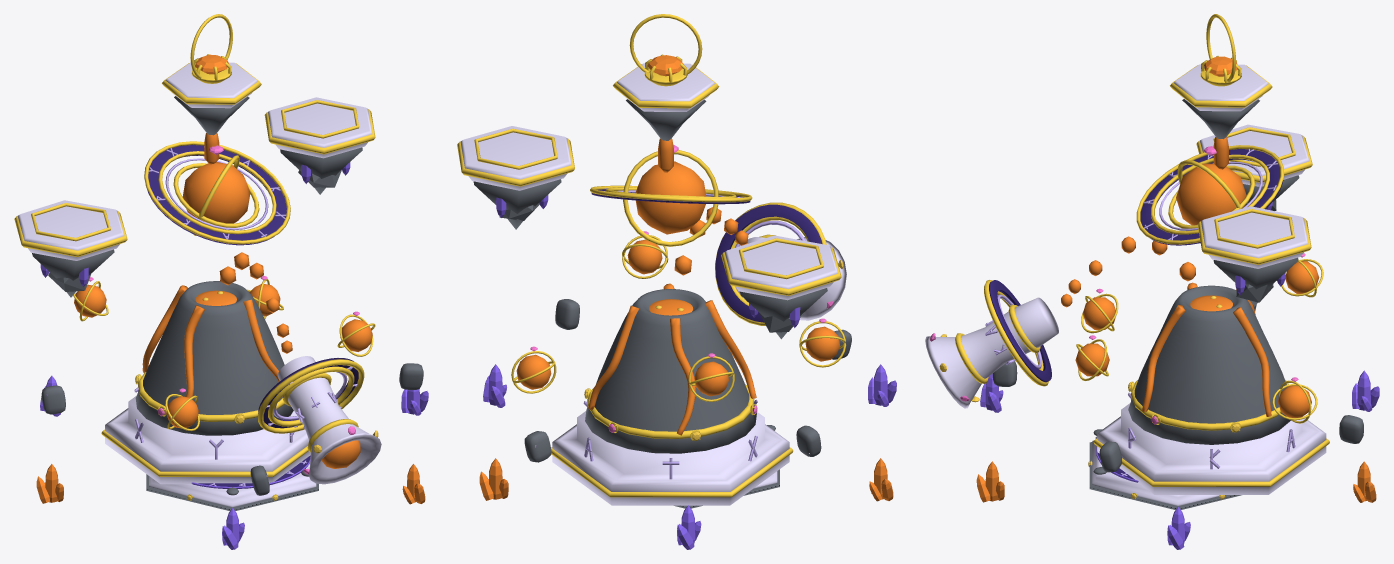
Rendered from LavaPump_T4.fbx.
3 views of the same model, side by side, from view 1: azimuth 30°, elevation 25°; view 2: azimuth 150°, elevation 25°; view 3: azimuth 270°, elevation 25° (orthographic). The views are drawn at different scales.
Visible parts, largest first — view 1: LavaPumpT4Volcano, LavaPumpT4Altar, LavaPumpT4IslandB, LavaPumpT4IslandA, LavaPumpT4Horn, LavaPumpT4OrbRing, LavaPumpT4Crown, LavaPumpT4GreatOrbGlow, LavaPumpT4Dais, LavaPumpT4OrbsGlow, LavaPumpT4HornRing, LavaPumpT4VolcanoLavaGlow (+9 smaller); view 2: LavaPumpT4Volcano, LavaPumpT4Altar, LavaPumpT4IslandA, LavaPumpT4IslandB, LavaPumpT4Crown, LavaPumpT4DaisCrystalsGlow, LavaPumpT4OrbsGlow, LavaPumpT4GreatOrbGlow, LavaPumpT4VolcanoLavaGlow, LavaPumpT4HornRing, LavaPumpT4RuneStones, LavaPumpT4Orbs (+5 smaller); view 3: LavaPumpT4Volcano, LavaPumpT4Altar, LavaPumpT4IslandB, LavaPumpT4Horn, LavaPumpT4Crown, LavaPumpT4OrbRing, LavaPumpT4DaisCrystalsGlow, LavaPumpT4IslandA, LavaPumpT4OrbsGlow, LavaPumpT4GreatOrbGlow, LavaPumpT4VolcanoLavaGlow, LavaPumpT4Dais (+7 smaller).
Boxes of the visible parts, x1,y1,x2,y2 form: LavaPumpT4Volcano: [135, 281, 293, 435]; LavaPumpT4Altar: [101, 396, 310, 484]; LavaPumpT4IslandB: [264, 97, 375, 194]; LavaPumpT4IslandA: [14, 200, 127, 297]; LavaPumpT4Horn: [277, 356, 381, 484]; LavaPumpT4OrbRing: [144, 141, 290, 245]; LavaPumpT4Crown: [162, 14, 261, 135]; LavaPumpT4GreatOrbGlow: [182, 145, 250, 223]; LavaPumpT4Dais: [146, 463, 318, 510]; LavaPumpT4OrbsGlow: [74, 276, 372, 428]; LavaPumpT4HornRing: [258, 358, 364, 433]; LavaPumpT4VolcanoLavaGlow: [142, 279, 283, 397]; LavaPumpT4Volcano: [585, 289, 756, 453]; LavaPumpT4Altar: [551, 411, 793, 505]; LavaPumpT4IslandA: [721, 235, 841, 339]; LavaPumpT4IslandB: [457, 126, 574, 229]; LavaPumpT4Crown: [613, 14, 719, 140]; LavaPumpT4DaisCrystalsGlow: [479, 364, 896, 549]; LavaPumpT4OrbsGlow: [516, 231, 839, 396]; LavaPumpT4GreatOrbGlow: [635, 145, 706, 234]; LavaPumpT4VolcanoLavaGlow: [588, 283, 756, 435]; LavaPumpT4HornRing: [715, 202, 826, 325]; LavaPumpT4RuneStones: [524, 299, 851, 462]; LavaPumpT4Orbs: [511, 234, 846, 401]; LavaPumpT4Volcano: [1128, 285, 1290, 444]; LavaPumpT4Altar: [1093, 403, 1329, 494]; LavaPumpT4IslandB: [1197, 206, 1311, 306]; LavaPumpT4Horn: [925, 297, 1058, 408]; LavaPumpT4Crown: [1170, 14, 1272, 139]; LavaPumpT4OrbRing: [1136, 145, 1283, 245]; LavaPumpT4DaisCrystalsGlow: [976, 370, 1379, 549]; LavaPumpT4IslandA: [1196, 124, 1312, 210]; LavaPumpT4OrbsGlow: [1075, 253, 1319, 417]; LavaPumpT4GreatOrbGlow: [1176, 146, 1246, 225]; LavaPumpT4VolcanoLavaGlow: [1142, 282, 1271, 416]; LavaPumpT4Dais: [1089, 436, 1241, 509].
Bounding box in the file's own units: 577 × 625 × 572.
